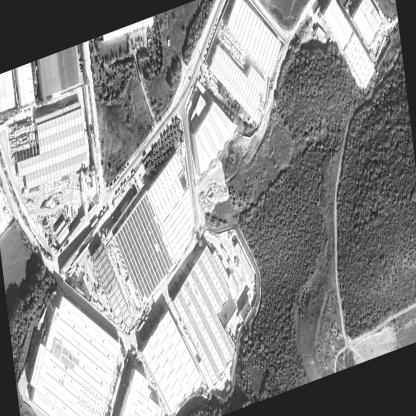solar-pv-panel: (143, 195, 174, 267), (131, 212, 161, 284), (134, 208, 164, 280), (136, 205, 166, 277), (141, 199, 171, 271), (124, 222, 154, 293), (129, 215, 159, 286), (127, 218, 156, 291), (120, 228, 149, 300), (122, 225, 151, 297), (117, 231, 145, 298), (115, 234, 138, 291), (138, 202, 157, 246), (158, 249, 170, 276), (145, 193, 156, 217)
